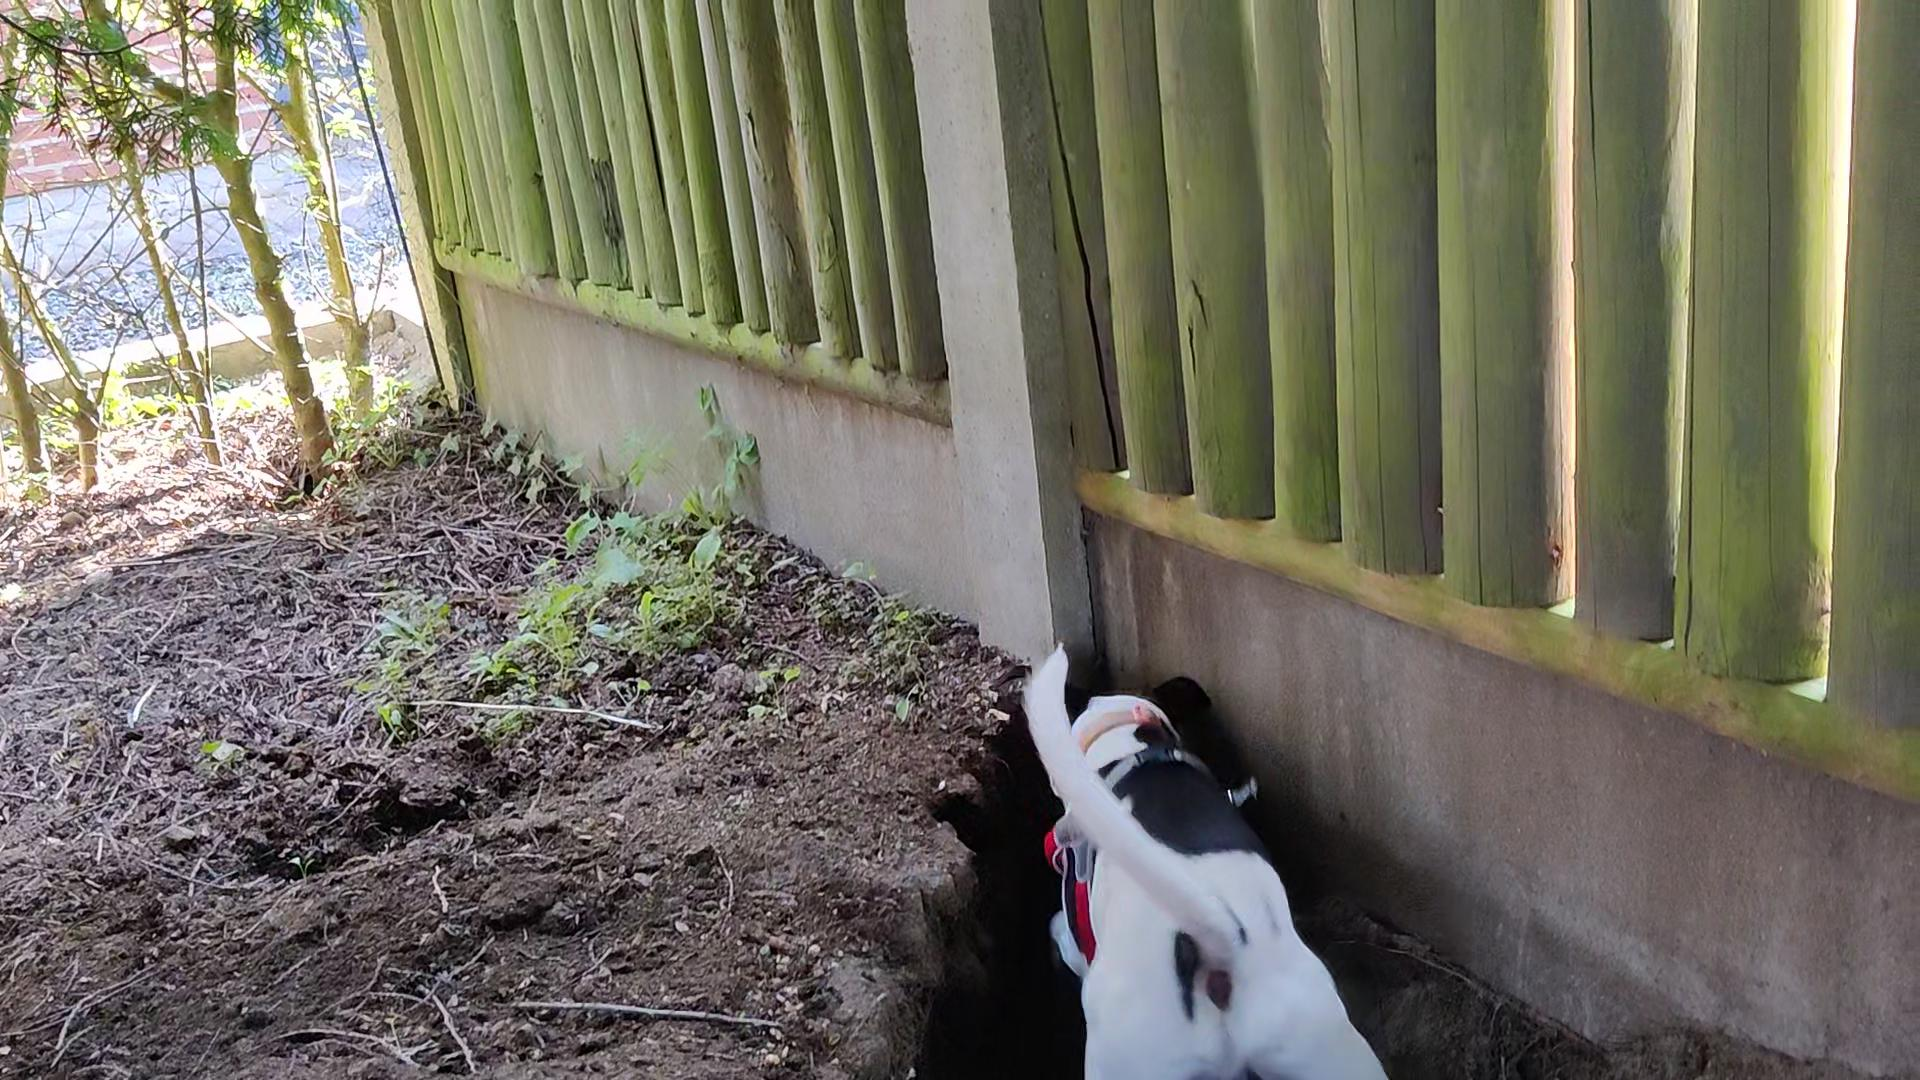Dog: (964, 613, 1414, 1079)
